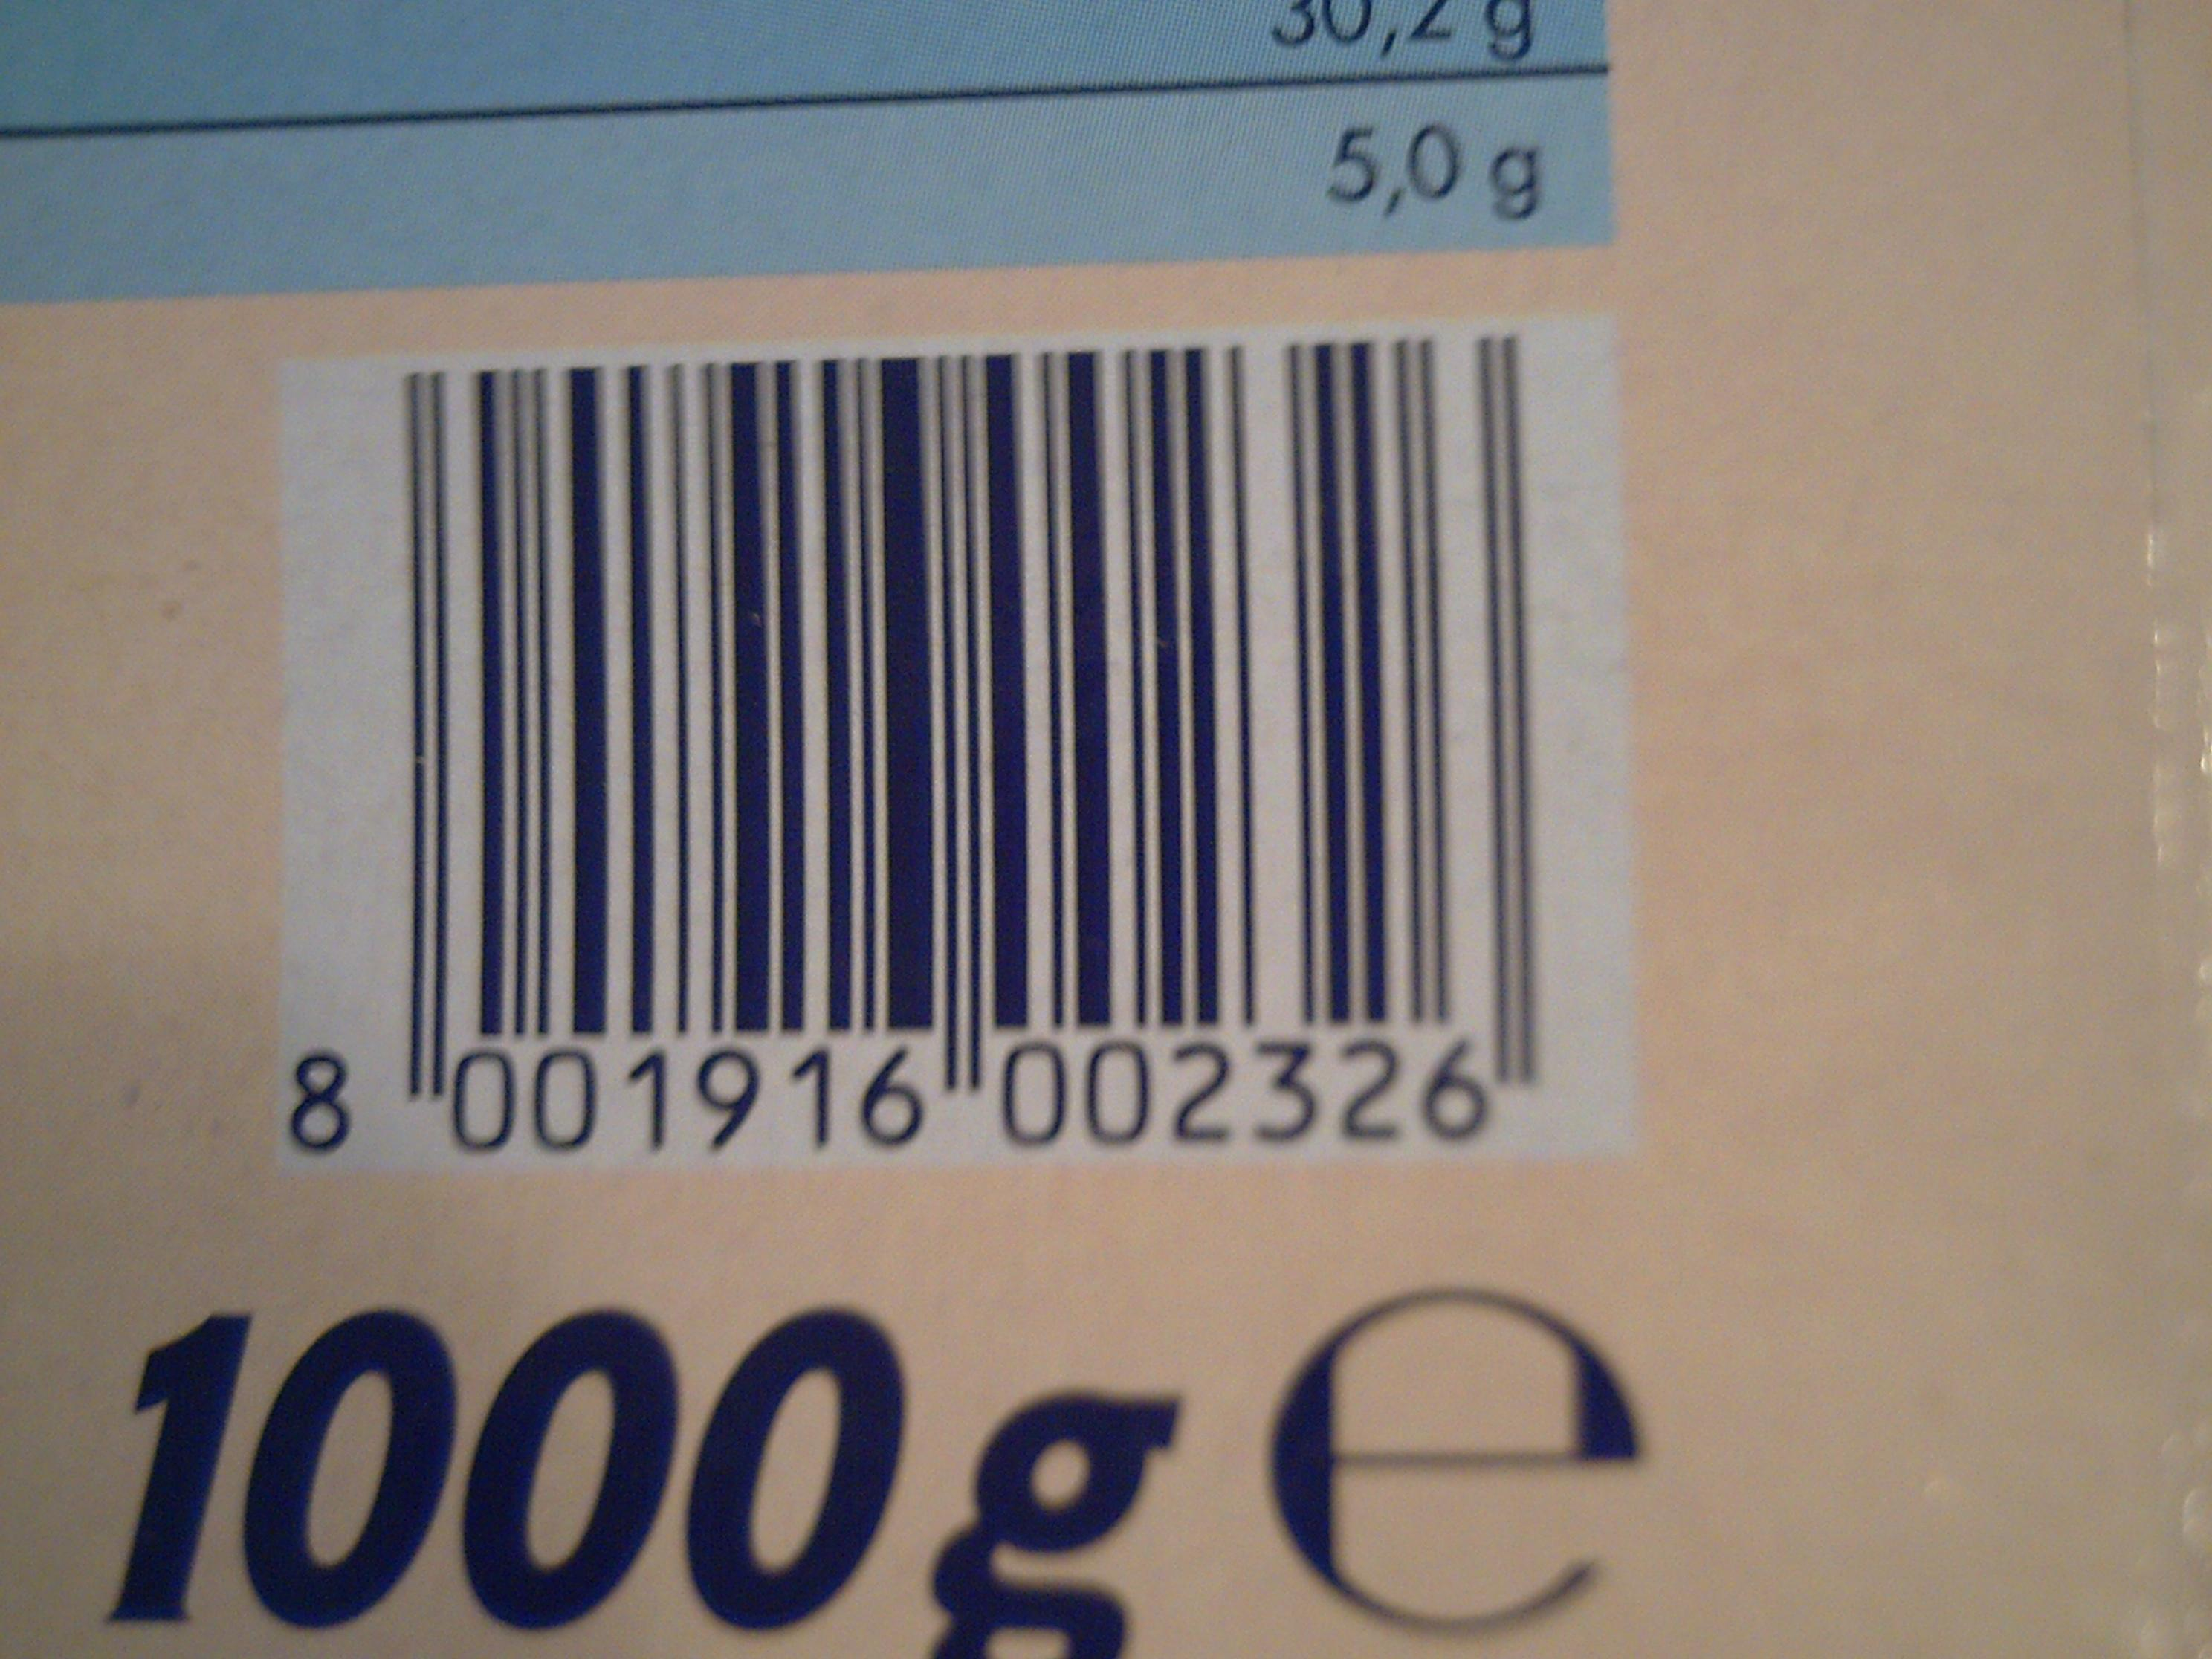barcode: (279, 315, 1639, 1168)
